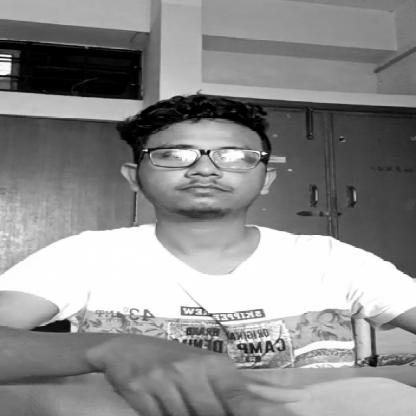Normal: (133, 117, 284, 229)
